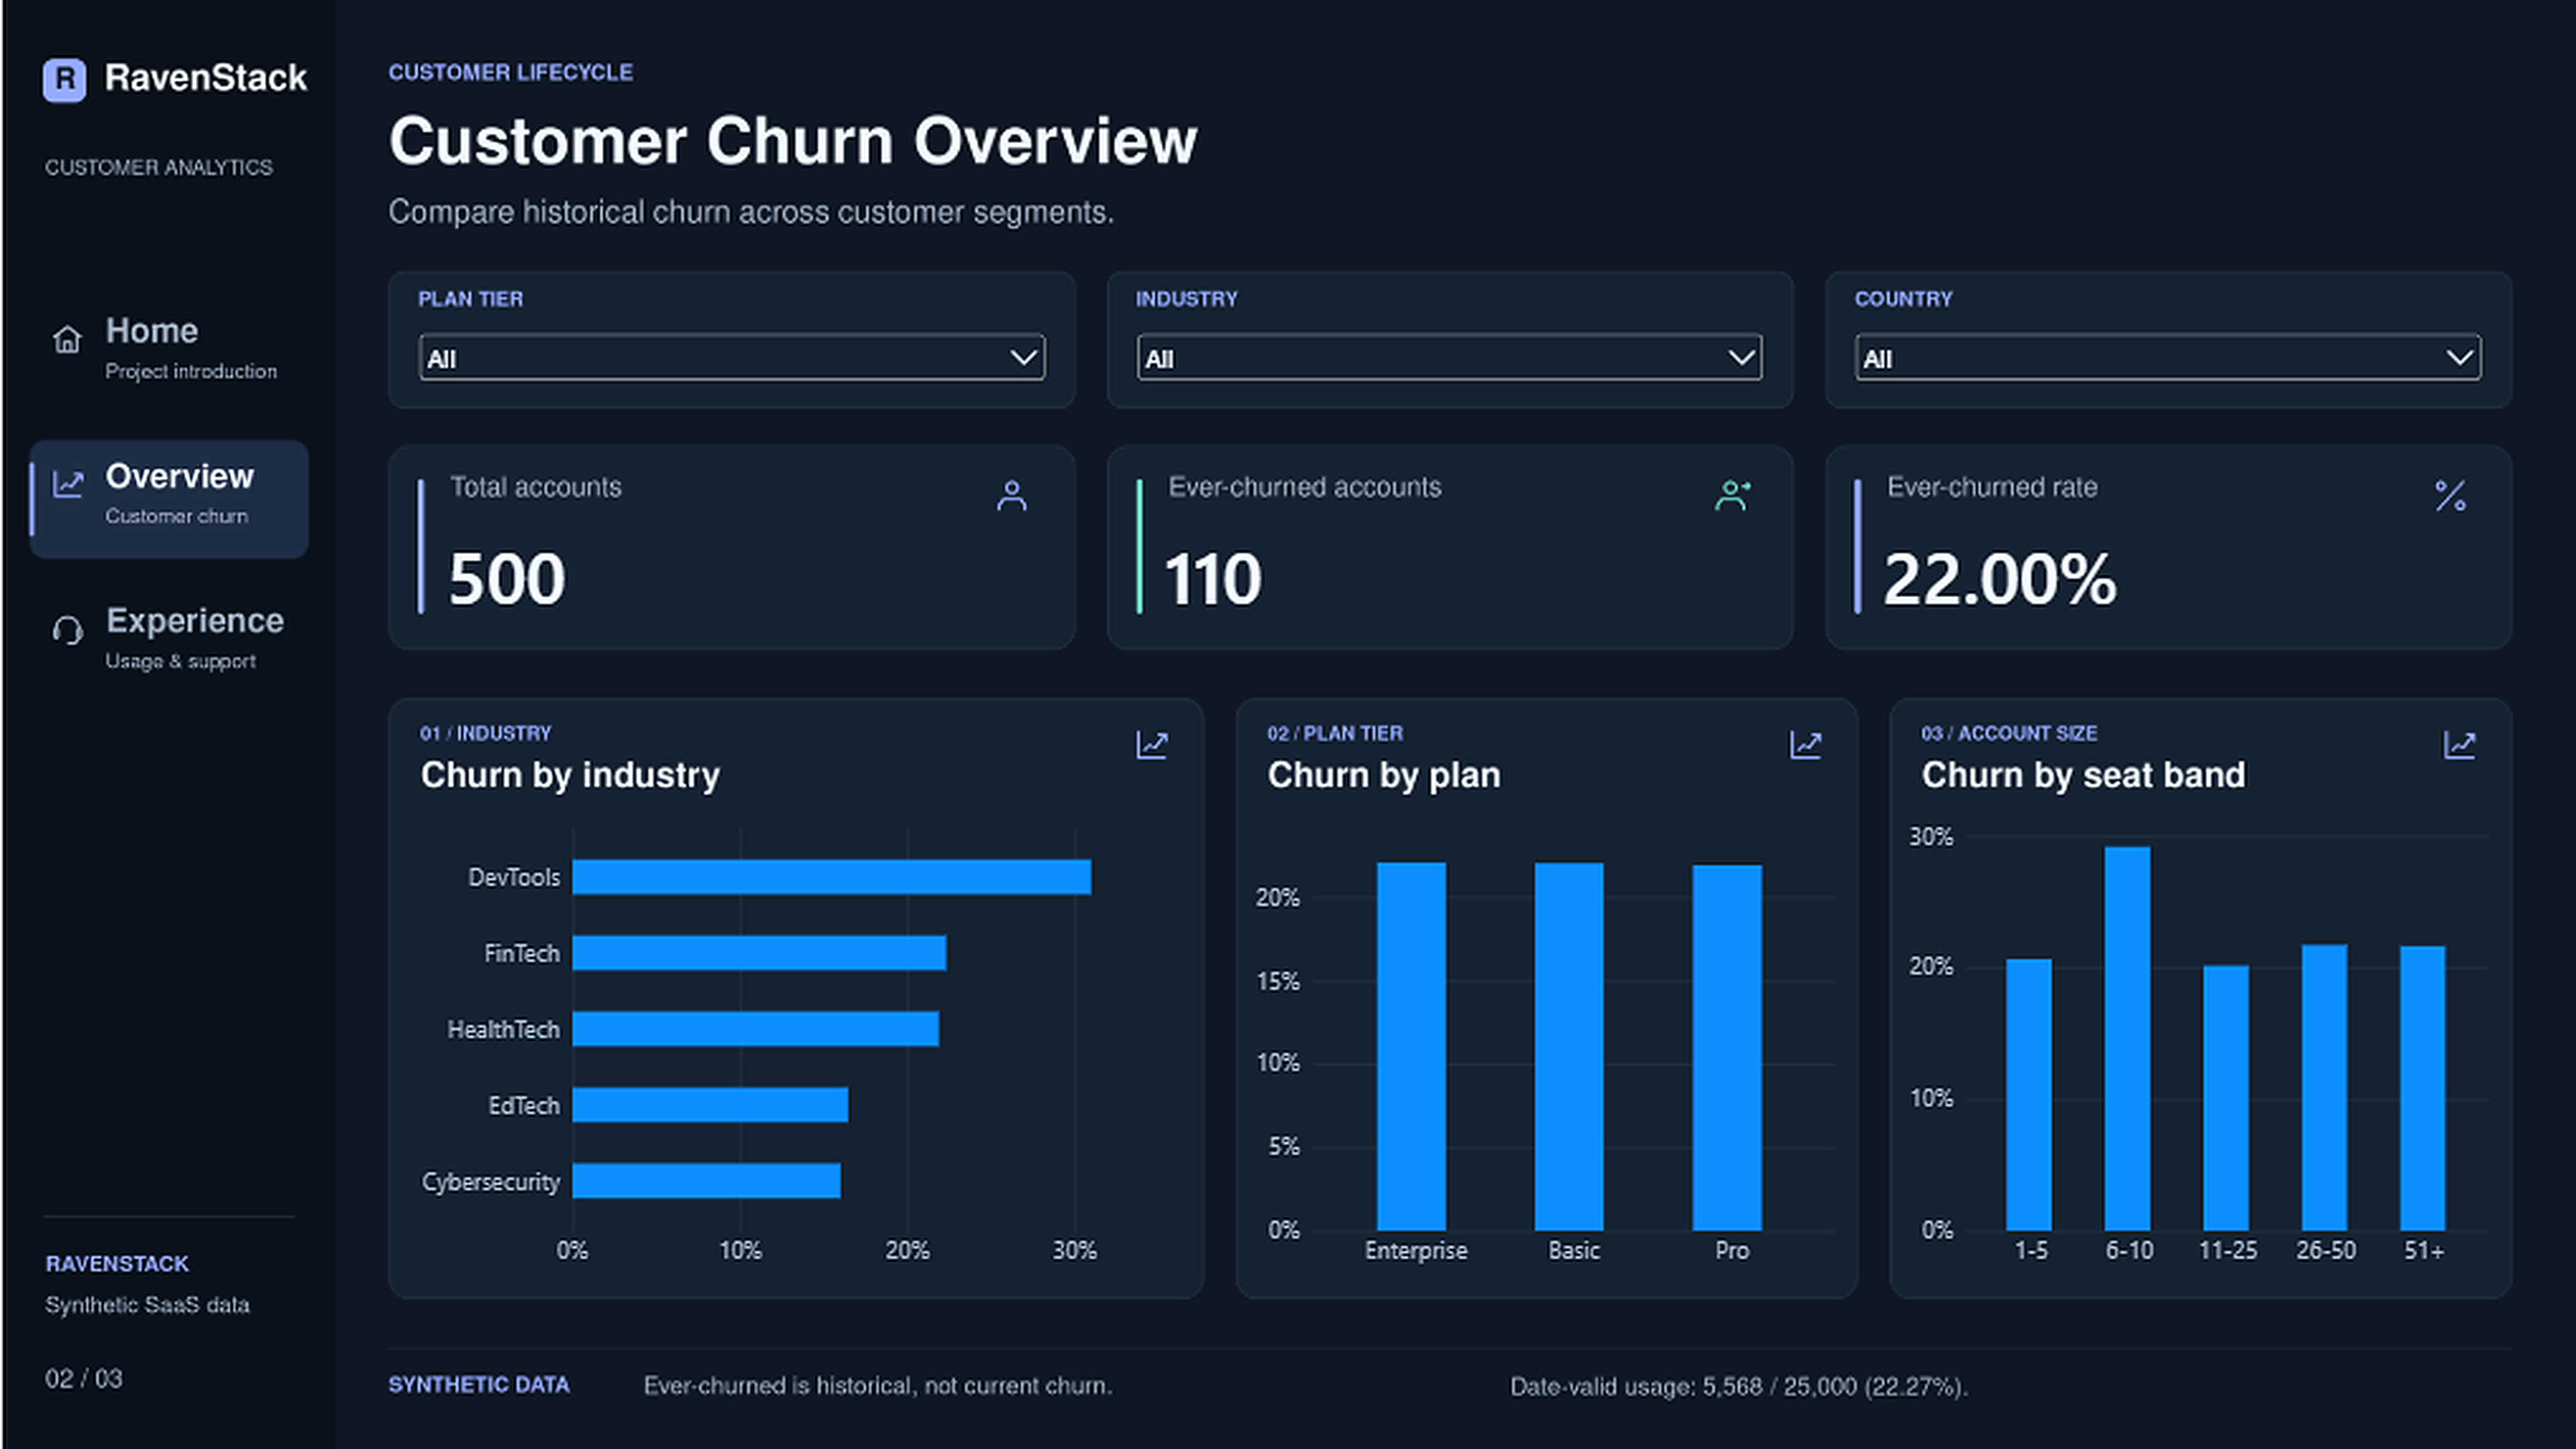

Layout of this report page (visuals, bound fields, positions):
{"tool":"powerbi","page":{"name":"Customer Churn Overview","canvas":[1920,1080],"ordinal":1},"visuals":[{"type":"cardVisual","fields":{"Data":["ravenstack_account_360.Total Accounts"]},"box":[332,384,444,90],"z":0},{"type":"cardVisual","fields":{"Data":["ravenstack_account_360.Ever-Churned Accounts"]},"box":[868,384,444,90],"z":1000},{"type":"cardVisual","fields":{"Data":["ravenstack_account_360.Ever-Churned %"]},"box":[1404,384,444,90],"z":2000},{"type":"clusteredBarChart","fields":{"Category":["ravenstack_account_360.industry"],"Y":["ravenstack_account_360.Ever-Churned %"]},"box":[304,610,576,340],"z":3000},{"type":"clusteredColumnChart","fields":{"Category":["ravenstack_account_360.plan_tier"],"Y":["ravenstack_account_360.Ever-Churned %"]},"box":[936,610,432,340],"z":4000},{"type":"clusteredColumnChart","fields":{"Category":["ravenstack_account_360.seat_band"],"Y":["ravenstack_account_360.Ever-Churned %"]},"box":[1424,610,432,340],"z":5000},{"type":"slicer","fields":{"Values":["ravenstack_account_360.industry"]},"box":[842,244,476,50],"z":6000},{"type":"slicer","fields":{"Values":["ravenstack_account_360.plan_tier"]},"box":[306,244,476,50],"z":7000},{"type":"slicer","fields":{"Values":["ravenstack_account_360.country"]},"box":[1378,244,476,50],"z":8000},{"type":"actionButton","box":[20,220,208,88],"z":9000},{"type":"actionButton","box":[20,328,208,88],"z":10000},{"type":"actionButton","box":[20,436,208,88],"z":11000}]}

Visuals, with their boxes on the page's 1920x1080 design canvas (x1, y1, x2, y2). These are canvas units, not pixel positions in the 2576x1449 screenshot, which may show the page scaled, cropped or inside an application window:
cardVisual - ravenstack_account_360.Total Accounts: 332, 384, 776, 474
cardVisual - ravenstack_account_360.Ever-Churned Accounts: 868, 384, 1312, 474
cardVisual - ravenstack_account_360.Ever-Churned %: 1404, 384, 1848, 474
clusteredBarChart - ravenstack_account_360.industry x ravenstack_account_360.Ever-Churned %: 304, 610, 880, 950
clusteredColumnChart - ravenstack_account_360.plan_tier x ravenstack_account_360.Ever-Churned %: 936, 610, 1368, 950
clusteredColumnChart - ravenstack_account_360.seat_band x ravenstack_account_360.Ever-Churned %: 1424, 610, 1856, 950
slicer - ravenstack_account_360.industry: 842, 244, 1318, 294
slicer - ravenstack_account_360.plan_tier: 306, 244, 782, 294
slicer - ravenstack_account_360.country: 1378, 244, 1854, 294
actionButton: 20, 220, 228, 308
actionButton: 20, 328, 228, 416
actionButton: 20, 436, 228, 524
